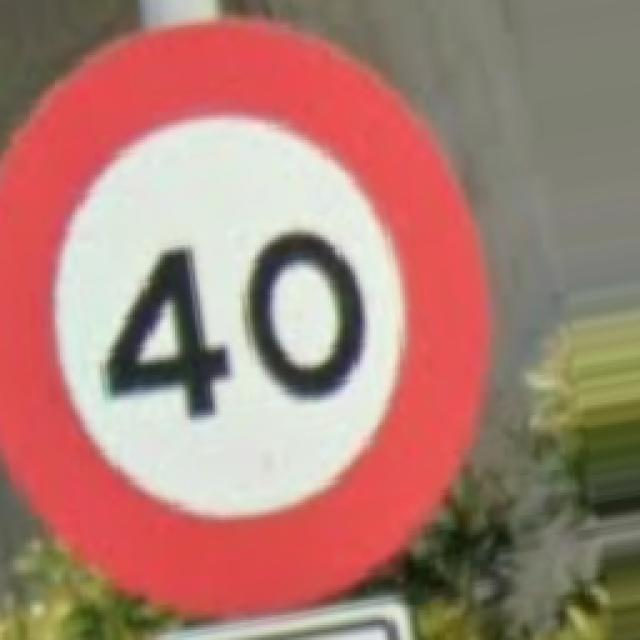Speed Limit -40-: (0, 22, 488, 612)
